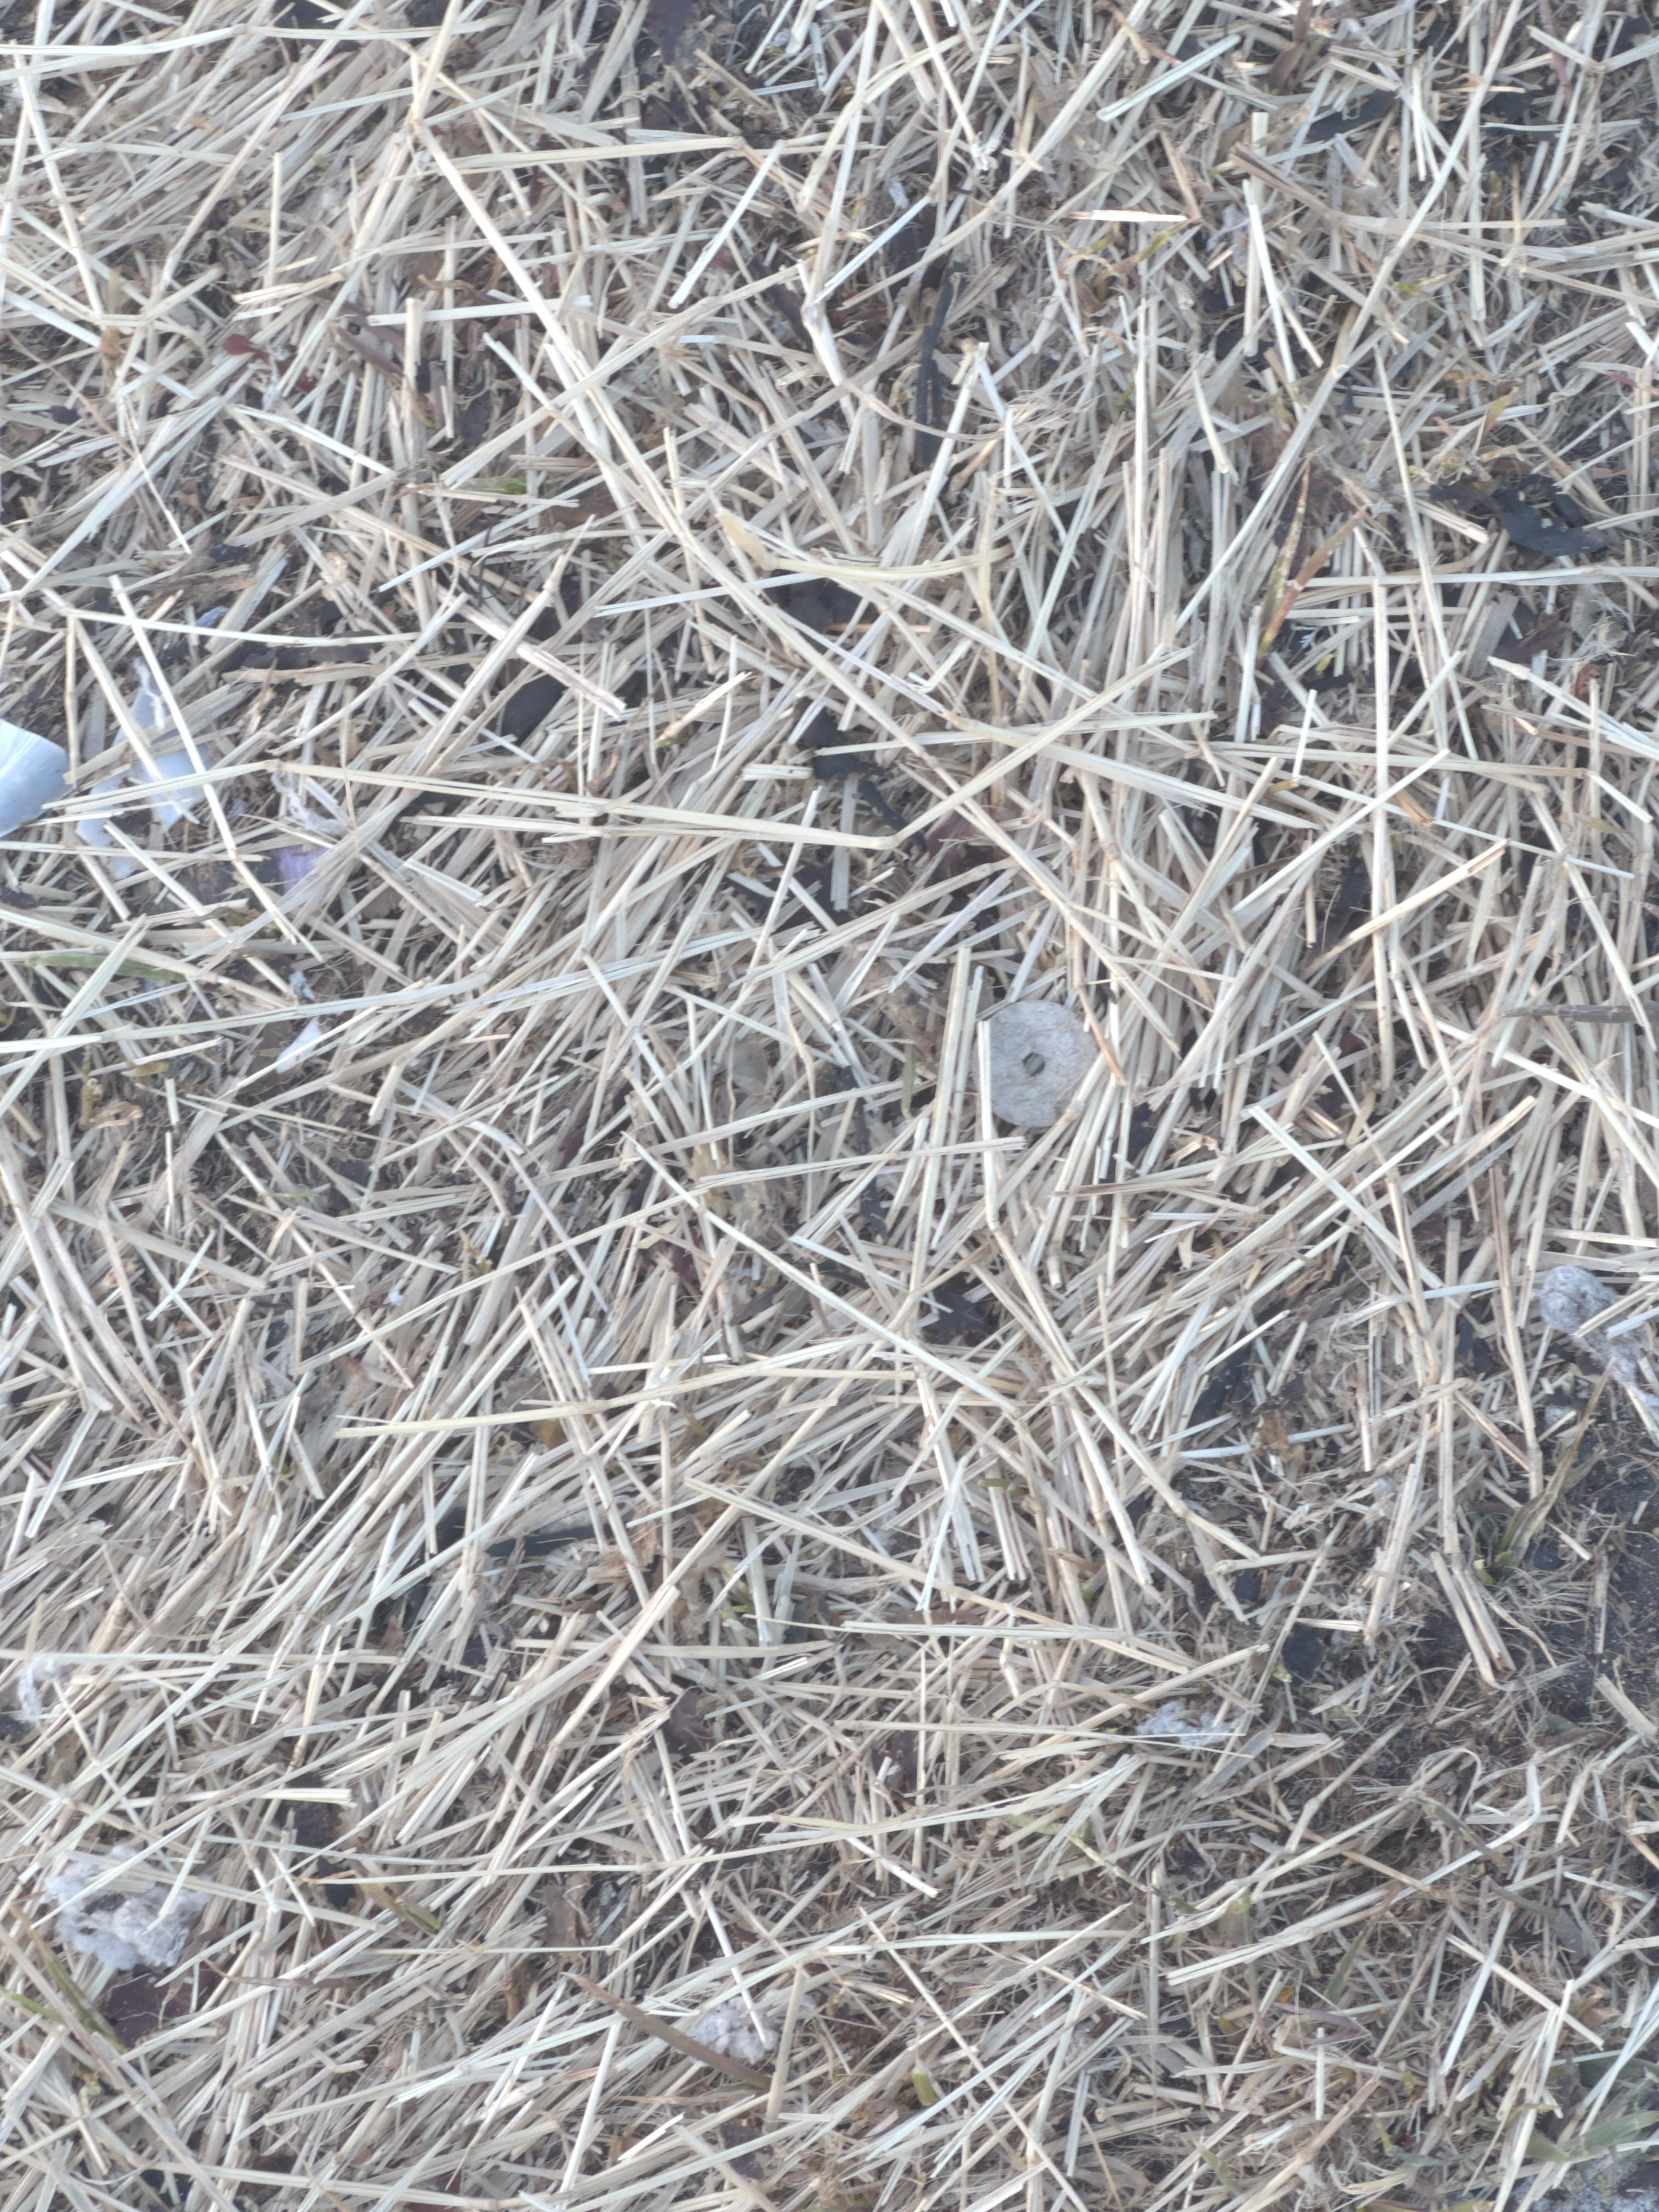trash: (990, 998, 1098, 1127), (0, 721, 70, 838)
